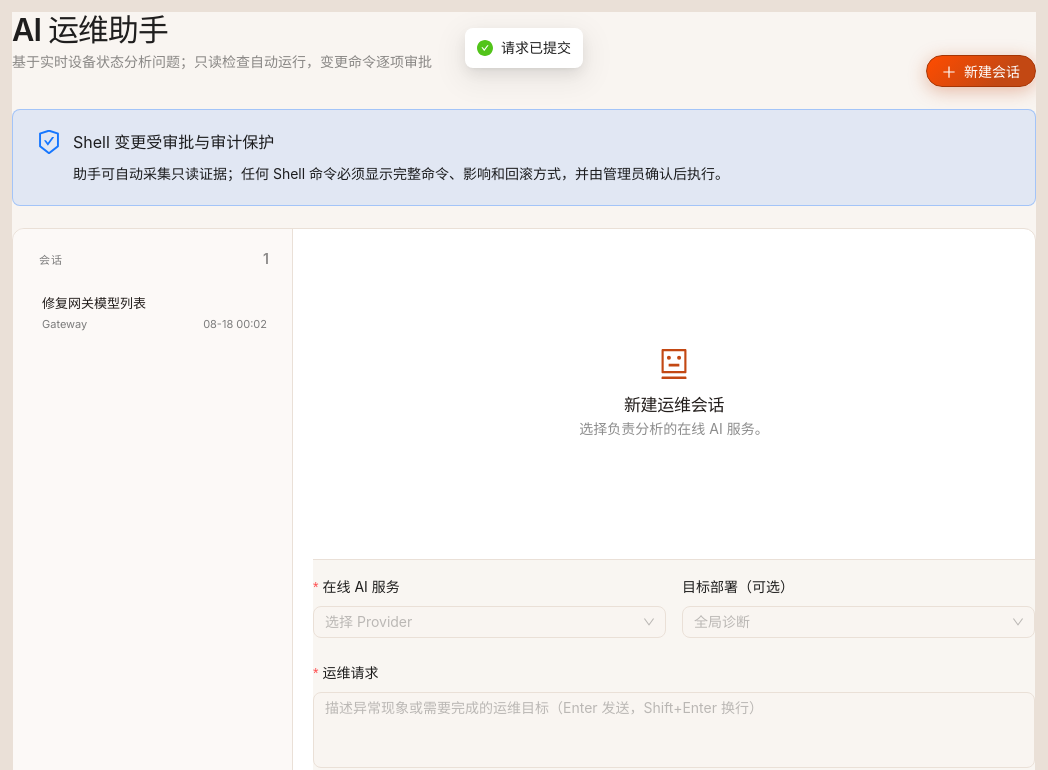
Test case: DiagnosticsPage operations sessions › shows read-only tool evidence and exact shell approval commands
Click the button "修复网关模型列表 Gateway 08-18 00:02" at (154, 312), box left=29, top=282, right=280, bottom=344
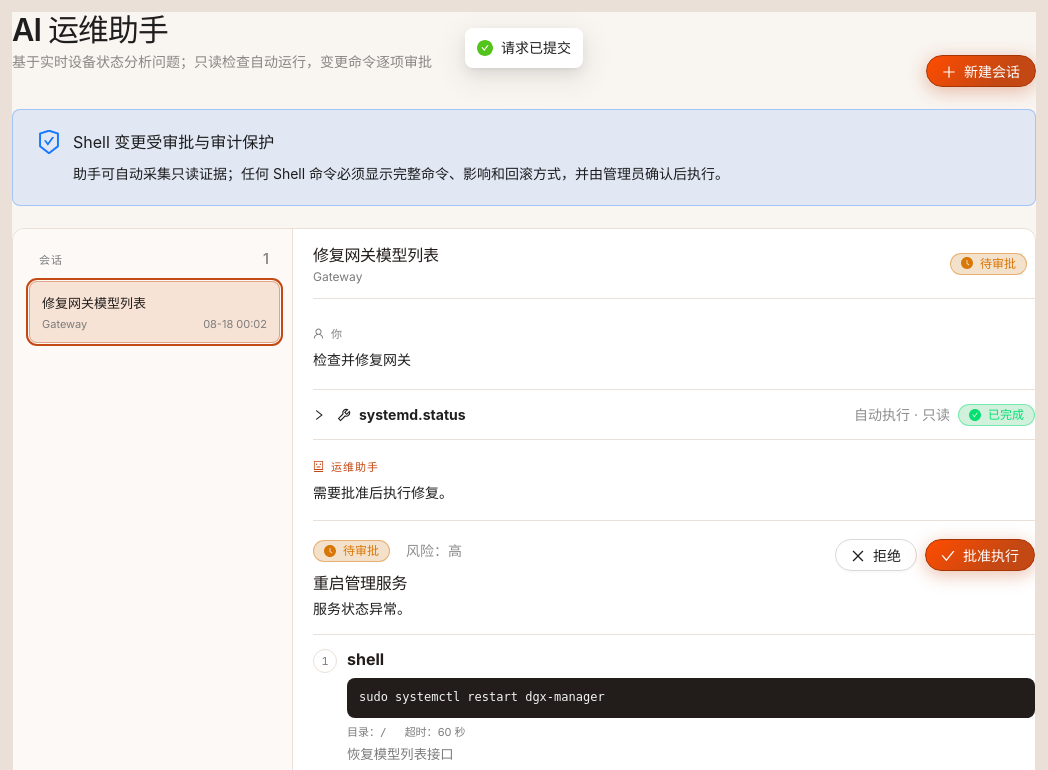
Now the text "自动执行 · 只读" is shown, box left=854, top=406, right=950, bottom=423
Now the text "systemd.status" is shown, box left=359, top=406, right=466, bottom=423
Now the text "sudo systemctl restart dgx-manager" is shown, box left=359, top=690, right=605, bottom=704
